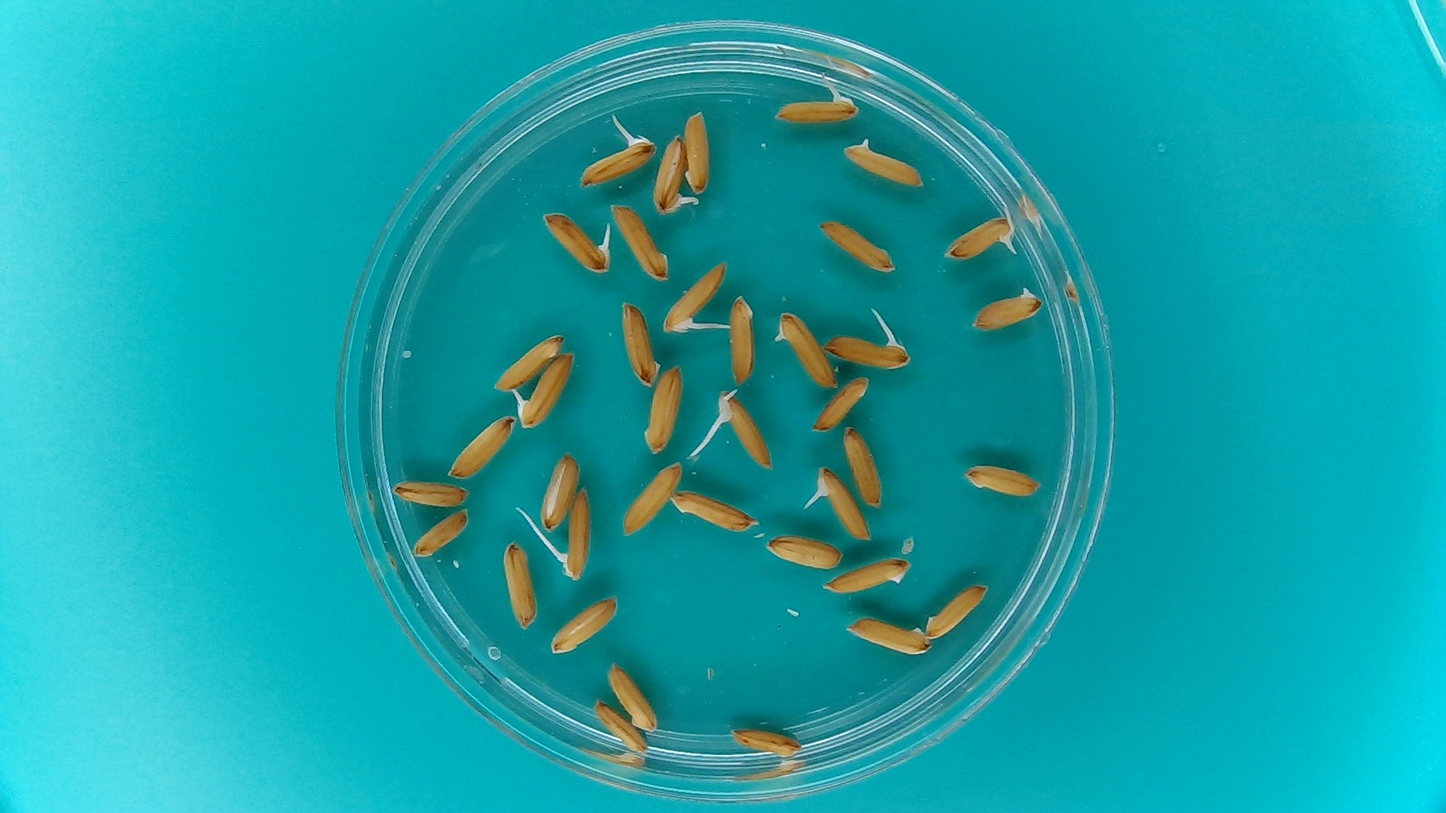no: (621, 459, 684, 540), (609, 201, 670, 282), (613, 297, 664, 392), (489, 330, 568, 391), (445, 412, 515, 479), (548, 592, 621, 656), (816, 218, 897, 274), (668, 489, 761, 532), (925, 581, 990, 641), (499, 537, 540, 632), (642, 364, 684, 456), (605, 659, 657, 732), (843, 614, 932, 656), (822, 554, 913, 595), (841, 425, 884, 510), (538, 447, 581, 532), (588, 696, 649, 755), (810, 373, 871, 431), (410, 506, 472, 559), (724, 291, 758, 386), (764, 532, 844, 571), (962, 462, 1042, 499), (389, 476, 471, 510), (681, 108, 713, 195), (727, 723, 805, 757)
yes: (661, 257, 730, 336), (772, 308, 837, 390), (513, 350, 578, 431), (712, 389, 775, 472), (807, 464, 873, 541), (540, 208, 614, 276), (838, 133, 927, 189), (575, 130, 654, 189), (967, 283, 1045, 333), (941, 212, 1020, 261), (770, 84, 862, 126), (820, 329, 914, 370), (651, 132, 695, 219), (558, 485, 595, 580)
